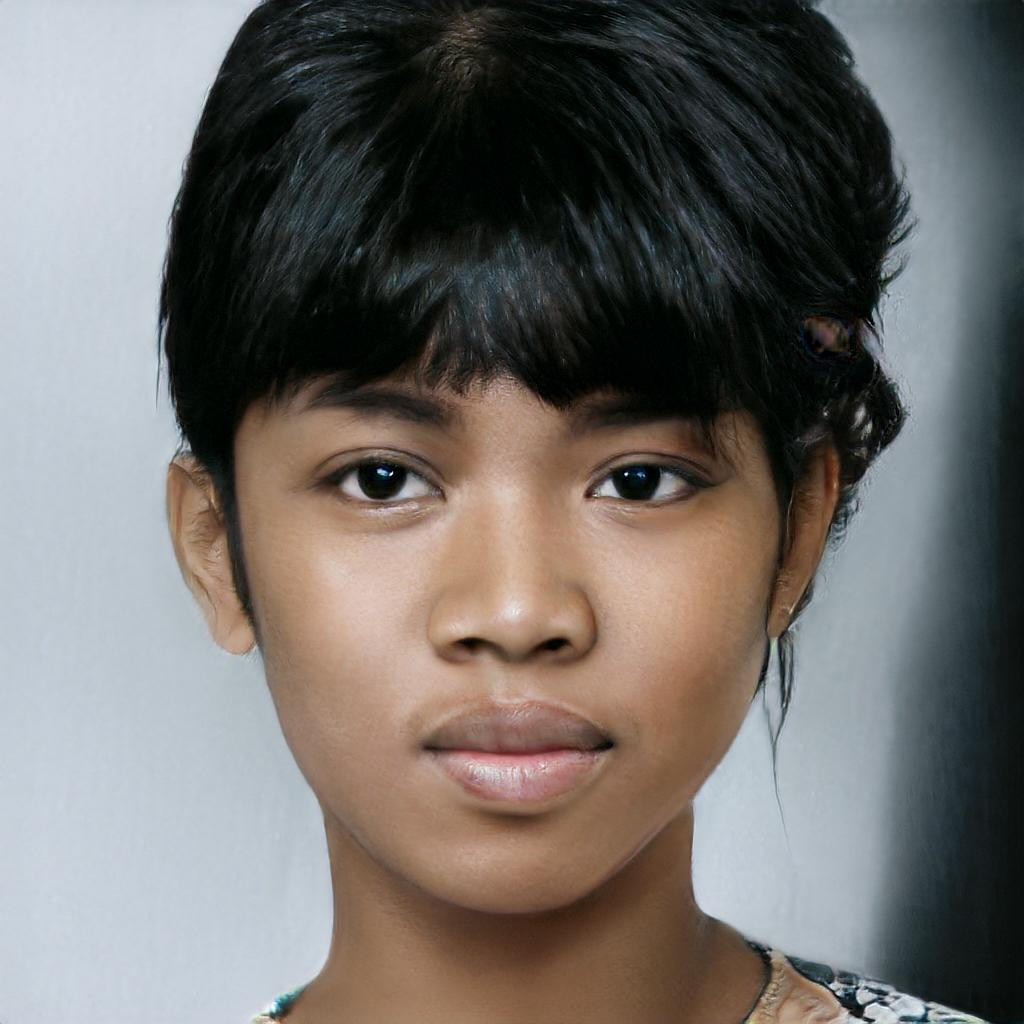bare: (250, 570, 773, 910)
